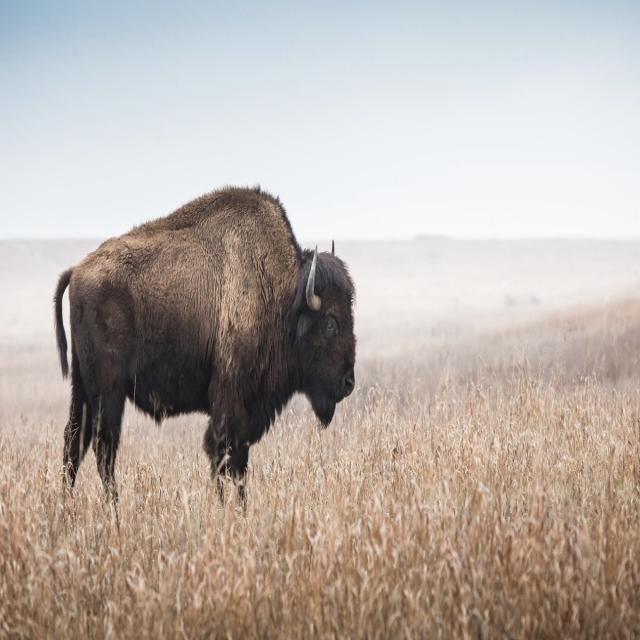bison: (53, 187, 356, 503)
